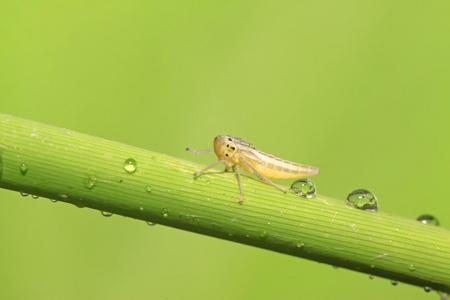Cicadellidae: (185, 135, 322, 196)
